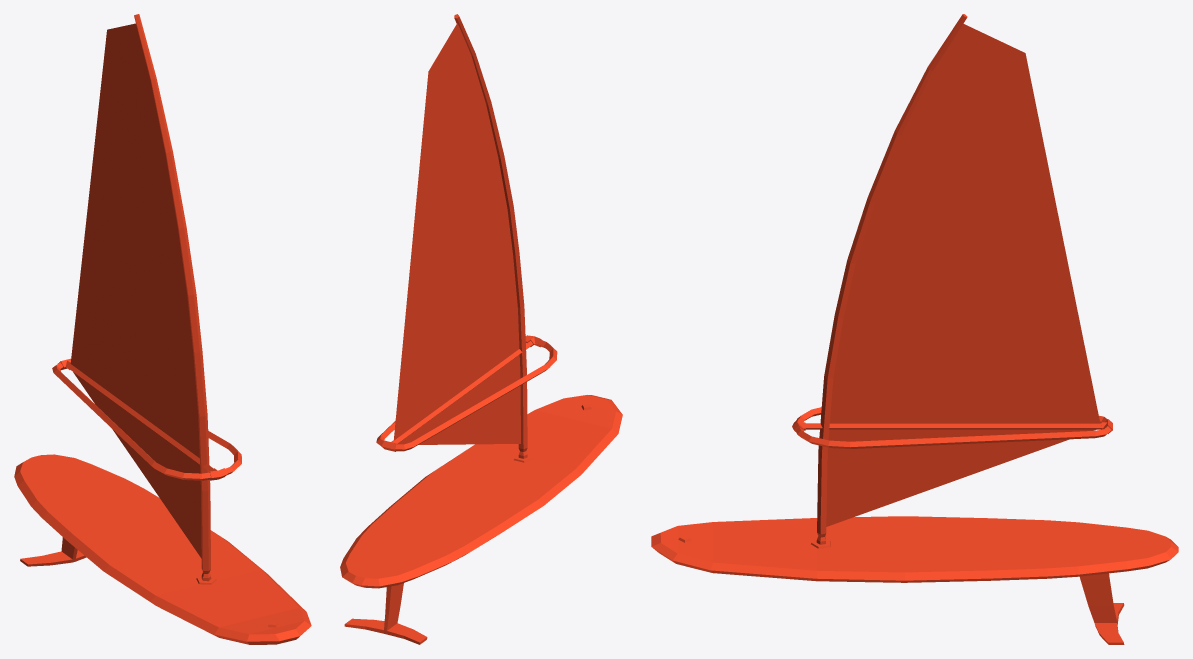
File: SM_Windsurf_A_City.fbx
3 renders of one model, left to right at view 1: azimuth 30°, elevation 25°; view 2: azimuth 150°, elevation 25°; view 3: azimuth 270°, elevation 25°, orthographic. The views are drawn at different scales.
Visible parts, largest first — view 1: SM_Windsurf_A_City; view 2: SM_Windsurf_A_City; view 3: SM_Windsurf_A_City.
Part boxes in pixels (x1,y1,x2,y2): SM_Windsurf_A_City: [14, 14, 311, 644]; SM_Windsurf_A_City: [340, 14, 622, 644]; SM_Windsurf_A_City: [651, 14, 1178, 644].
Size of the model in its own units: 0.9584 by 4.38 by 3.43.
